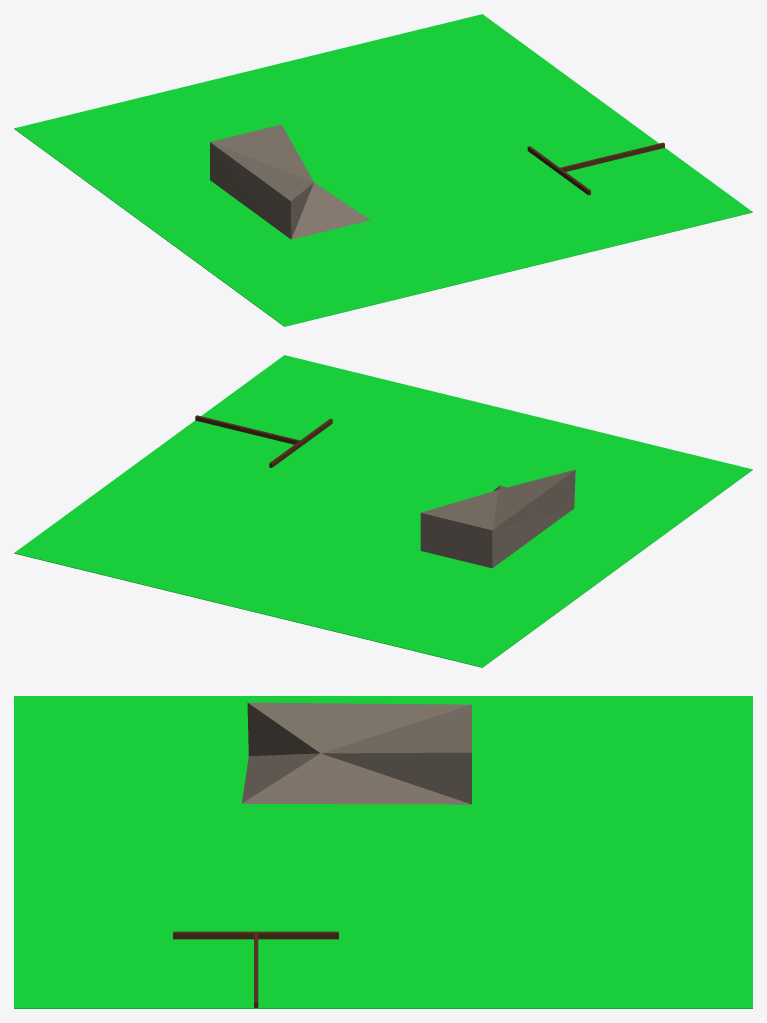
The model's file is world.glb.
The picture shows the model from 3 angles, top to bottom: view 1: azimuth 30°, elevation 25°; view 2: azimuth 150°, elevation 25°; view 3: azimuth 270°, elevation 25°; orthographic projection. The views are drawn at different scales.
Parts seen in each view (by area): view 1: Floor, Rock, Fence2; view 2: Floor, Rock, Fence2; view 3: Floor, Rock, Fence.
Boxes of the visible parts, bbox=[...] form: Floor: bbox=[14, 14, 752, 326]; Rock: bbox=[210, 124, 369, 239]; Fence2: bbox=[558, 142, 664, 171]; Floor: bbox=[14, 355, 752, 667]; Rock: bbox=[420, 469, 575, 568]; Fence2: bbox=[195, 415, 301, 444]; Floor: bbox=[14, 696, 752, 1008]; Rock: bbox=[241, 702, 471, 804]; Fence: bbox=[173, 931, 338, 939].
Size of the model in its own units: 1000 by 82.64 by 1000.
